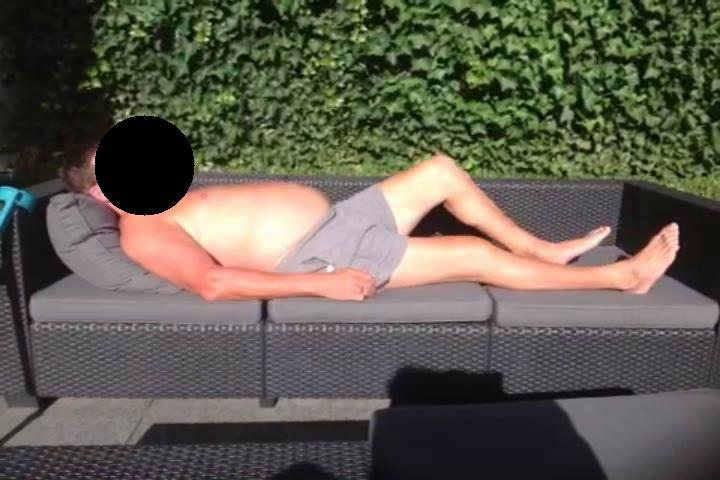lower_body: (320, 153, 683, 300)
